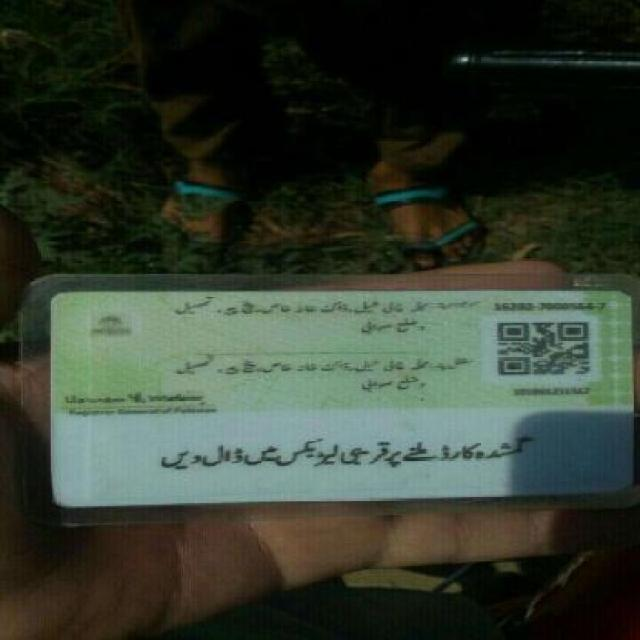Back: (31, 283, 632, 509)
